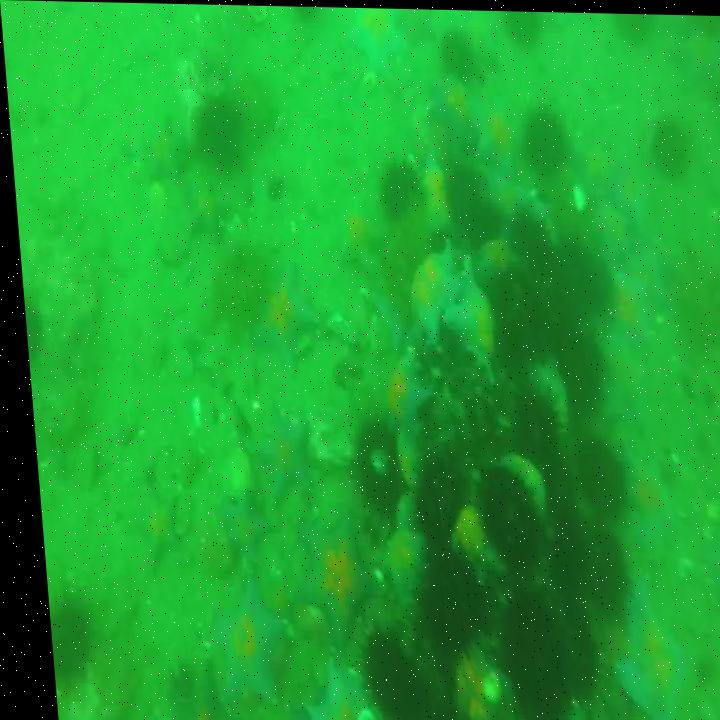echinus: (487, 582, 569, 719), (406, 538, 476, 658), (471, 466, 545, 574), (345, 623, 423, 720), (406, 441, 469, 561), (341, 416, 403, 520), (438, 166, 501, 250), (493, 270, 553, 356), (549, 317, 604, 410), (501, 383, 559, 466), (38, 596, 86, 696), (533, 466, 573, 575), (575, 530, 623, 614), (553, 244, 608, 316), (568, 434, 621, 508), (192, 94, 239, 167), (557, 603, 589, 705), (378, 151, 424, 219), (500, 217, 553, 276), (517, 103, 561, 171), (643, 111, 688, 170), (439, 27, 476, 78), (501, 9, 544, 45), (614, 11, 645, 32)
scallop: (470, 669, 490, 701), (568, 182, 585, 212), (246, 6, 268, 21), (359, 70, 377, 88)
starfish: (281, 498, 382, 653), (596, 579, 680, 720), (196, 575, 280, 708), (236, 258, 314, 371), (436, 253, 494, 391), (238, 402, 308, 501), (400, 249, 466, 344), (624, 446, 677, 561), (289, 653, 369, 720), (615, 224, 677, 303), (343, 8, 408, 80), (206, 487, 262, 565), (604, 263, 652, 347), (471, 92, 516, 179), (135, 112, 191, 181), (178, 168, 234, 237), (127, 484, 174, 564), (362, 274, 408, 351), (395, 376, 435, 455), (609, 158, 654, 221), (699, 515, 720, 621)
